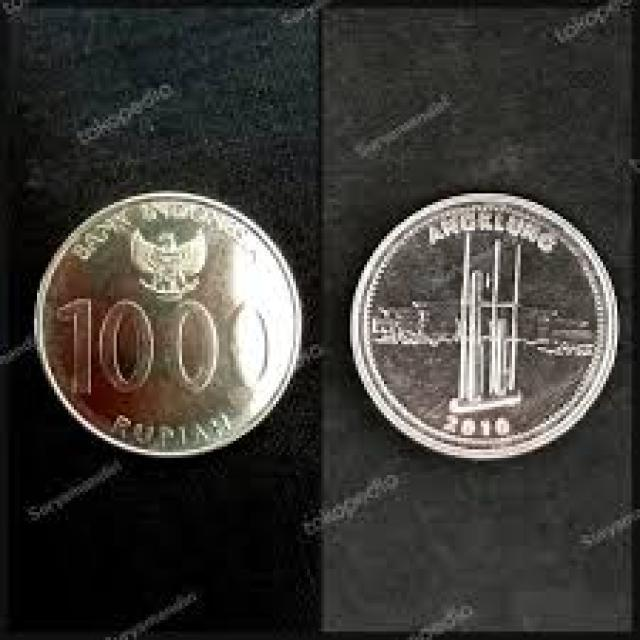coin_1000_e2010: (36, 183, 298, 465), (349, 188, 620, 458)
